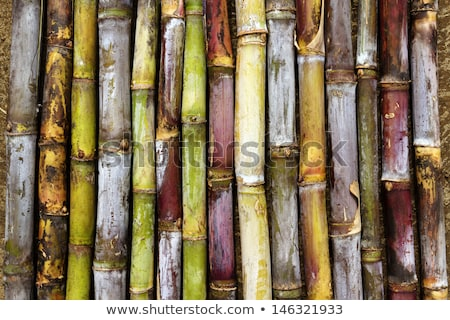cane eye: (256, 28, 268, 46), (382, 179, 395, 193), (205, 167, 217, 182), (172, 216, 184, 230), (120, 138, 131, 152), (283, 146, 293, 159), (189, 113, 199, 124), (6, 123, 15, 135), (60, 204, 68, 214), (78, 149, 85, 159)
